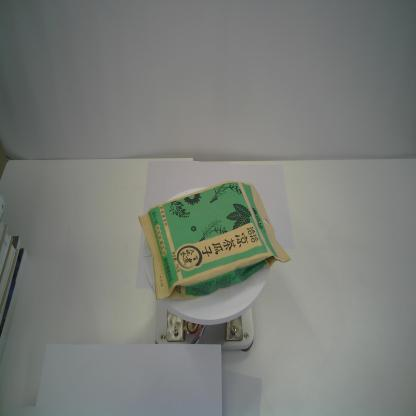Dried Food: (138, 180, 293, 303)
